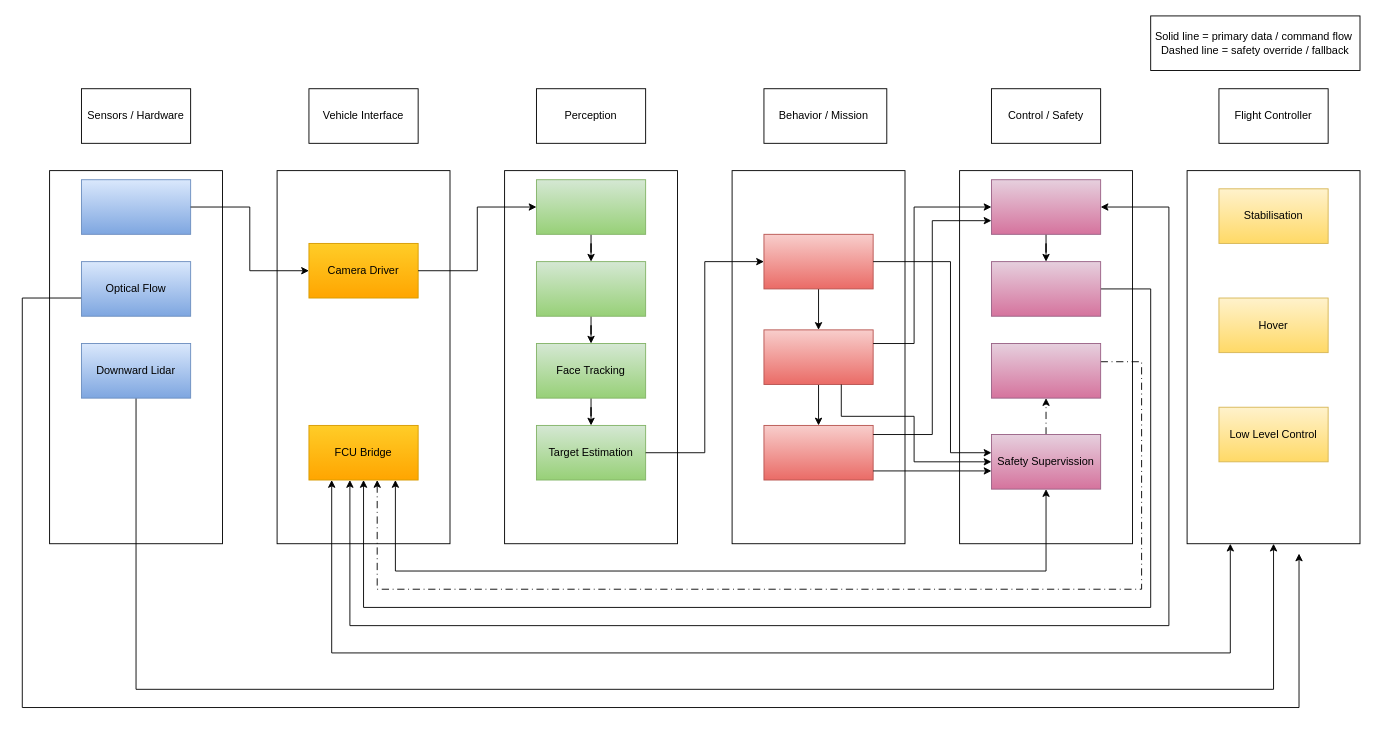
Image size: 1376x731. Some labels were removed from this diagram. Here are the shapes that lost their labels. From the top down, the box of each, then its label:
(81, 179, 191, 234): Pi Camera
(536, 179, 646, 234): Image Preprocess
(991, 179, 1101, 234): Follow Controller
(763, 233, 873, 289): World Model
(536, 261, 646, 316): Face Detection
(991, 261, 1101, 316): Setpoint Validation
(763, 329, 873, 384): Mission Maneger
(991, 343, 1101, 398): Hold/ Failsafe
(763, 425, 873, 480): Follow Decision
